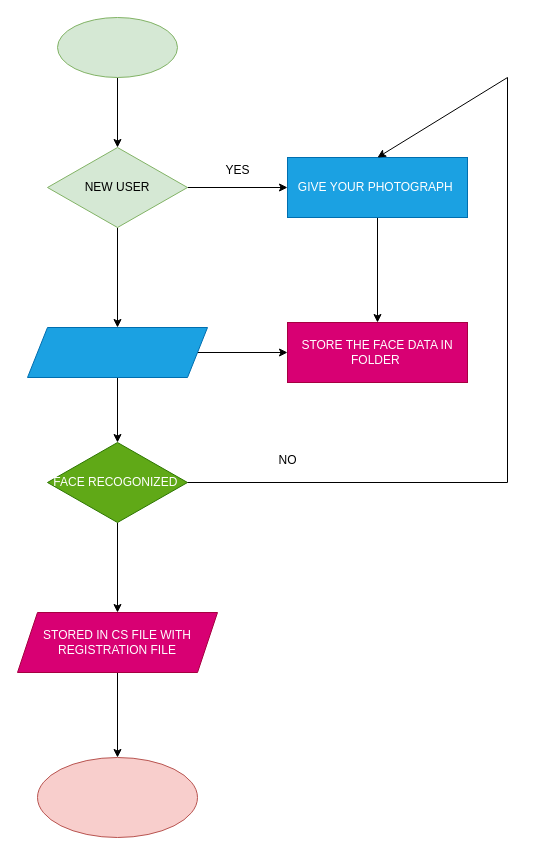
Some shapes in this 533 by 855 pixel diagram are drawn without their labels. The shapes that lost their labels are listed below. From the top down, each one's centre as x and y in pixels, then its label:
At pixel 117 47: "START".
At pixel 117 352: "RECONIZE THE FACE".
At pixel 117 797: "END".
